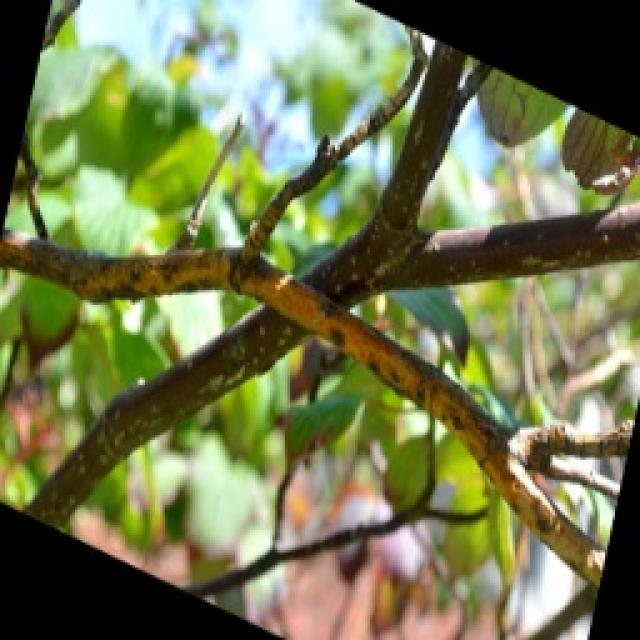Golden_canker: (2, 50, 640, 612)
